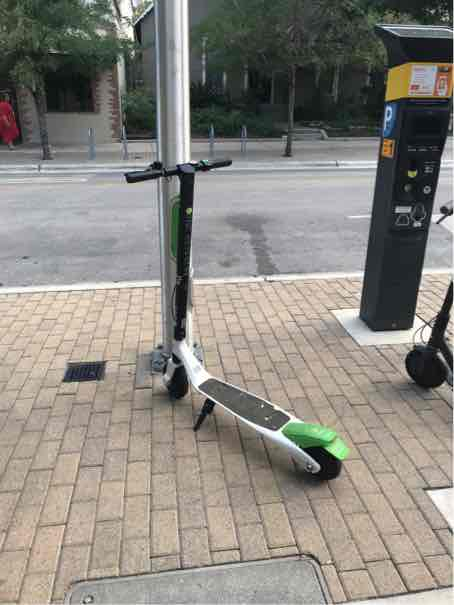scooter: (116, 158, 345, 487)
